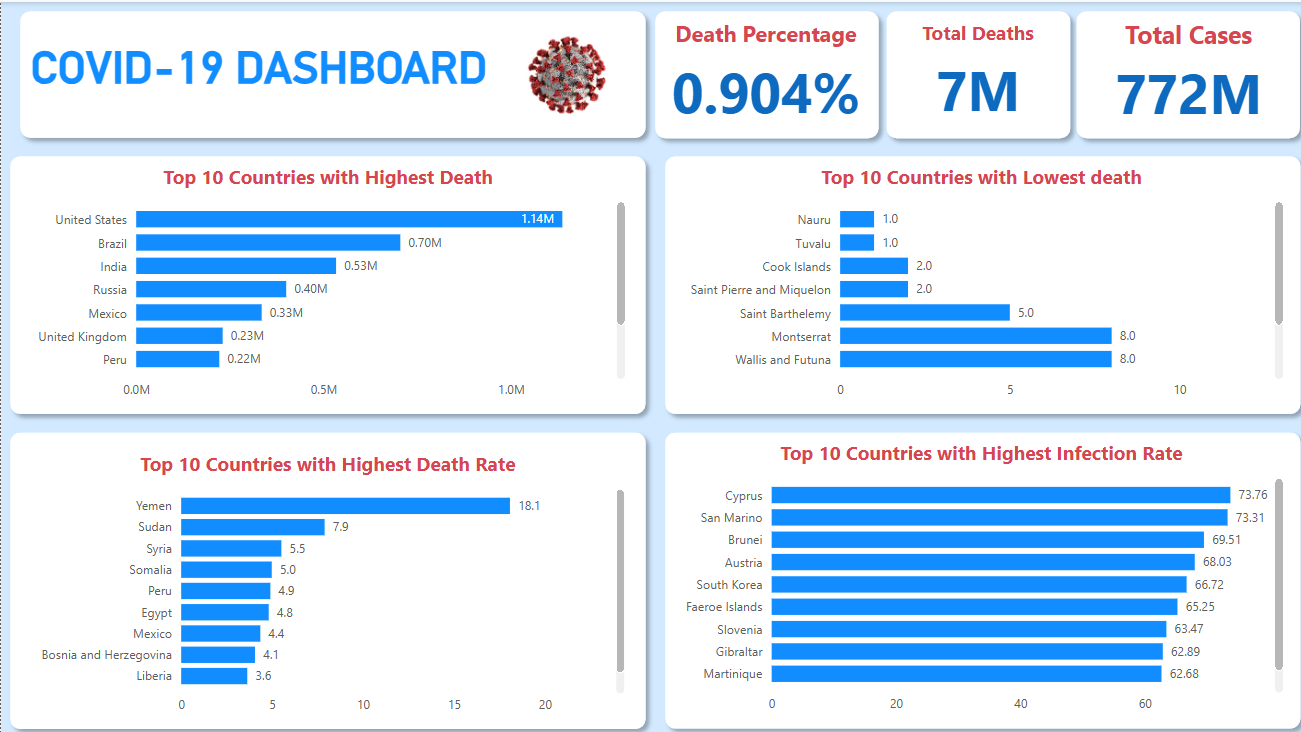

This screenshot's page, from the dashboard's own definition file:
{"tool":"powerbi","page":{"name":"C0VID-19","canvas":[1280,720],"ordinal":0},"visuals":[{"type":"shape","box":[9.8,0,629.8,141.8],"z":0},{"type":"shape","box":[0,142.4,639.4,270.2],"z":1000},{"type":"shape","box":[631,0,236.5,142.4],"z":2000},{"type":"shape","box":[857.8,0,197.9,142.4],"z":3000},{"type":"shape","box":[1043.6,0,236.5,142.4],"z":4000},{"type":"shape","box":[0,412.1,639.5,308.2],"z":5000},{"type":"shape","box":[640.6,142.4,639.4,270.2],"z":6000},{"type":"shape","box":[640.6,412.6,639.4,307.6],"z":7000},{"type":"barChart","title":"Top 10 Countries with Highest Death","fields":{"Category":["public top_10_cntry_high_covid_death.location"],"Y":["Sum(public top_10_cntry_high_covid_death.sum_total_deaths)"]},"box":[24.3,158.1,591.2,240.1],"z":8000},{"type":"clusteredBarChart","title":"Top 10 Countries with Lowest death","fields":{"Category":["public top_10_cntry_low_covid_death.location"],"Y":["Sum(public top_10_cntry_low_covid_death.sum_total_deaths)"]},"box":[659.6,158.1,600.3,240.1],"z":9000},{"type":"barChart","title":"Top 10 Countries with Highest Death Rate","fields":{"Category":["public top_10_cntry_high_per_dth.location"],"Y":["Sum(public top_10_cntry_high_per_dth.death_percentage)"]},"box":[24.5,439,590.6,266.6],"z":10000},{"type":"barChart","title":"Top 10 Countries with Highest Infection Rate","fields":{"Category":["public top_10_cntry_high_infctn_rate.location"],"Y":["Sum(public top_10_cntry_high_infctn_rate.highest_infection_count)"]},"box":[659.6,428.6,600.3,276.6],"z":11000},{"type":"card","title":"Death Percentage","fields":{"Values":["Min(public tot_death_percentage.death_percentage)"]},"box":[649.3,15.9,198.1,111.3],"z":11001},{"type":"card","title":"Total Deaths","fields":{"Values":["Sum(public dth_per_high_dths_high_cases.sum_total_deaths)"]},"box":[876.8,17.1,157.7,110.1],"z":11002},{"type":"card","title":"Total Cases","fields":{"Values":["Sum(public dth_per_high_dths_high_cases.sum_total_cases)"]},"box":[1063.9,15.9,195.7,111.3],"z":11003},{"type":"textbox","box":[24.5,17.1,468.3,100.3],"z":11004},{"type":"image","box":[492.8,28.1,122.3,89.3],"z":11005}]}

Visuals, with their boxes in screenshot pixels (x1, y1, x2, y2), scaled from the page's 1280x720 canvas onto the 1301x732 screenshot:
shape: region(10, 0, 650, 144)
shape: region(0, 145, 650, 419)
shape: region(641, 0, 882, 145)
shape: region(872, 0, 1073, 145)
shape: region(1061, 0, 1300, 145)
shape: region(0, 419, 650, 731)
shape: region(651, 145, 1300, 419)
shape: region(651, 419, 1300, 731)
"Top 10 Countries with Highest Death" barChart: region(25, 161, 626, 405)
"Top 10 Countries with Lowest death" clusteredBarChart: region(670, 161, 1281, 405)
"Top 10 Countries with Highest Death Rate" barChart: region(25, 446, 625, 717)
"Top 10 Countries with Highest Infection Rate" barChart: region(670, 436, 1281, 717)
"Death Percentage" card: region(660, 16, 861, 129)
"Total Deaths" card: region(891, 17, 1051, 129)
"Total Cases" card: region(1081, 16, 1280, 129)
textbox: region(25, 17, 501, 119)
image: region(501, 29, 625, 119)
